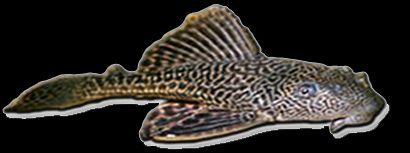Janitor Fish: (4, 4, 392, 150)
